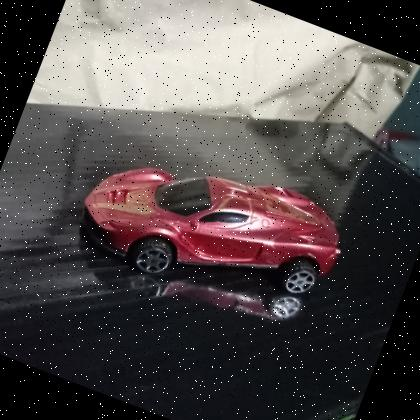Car: (58, 112, 363, 345)
